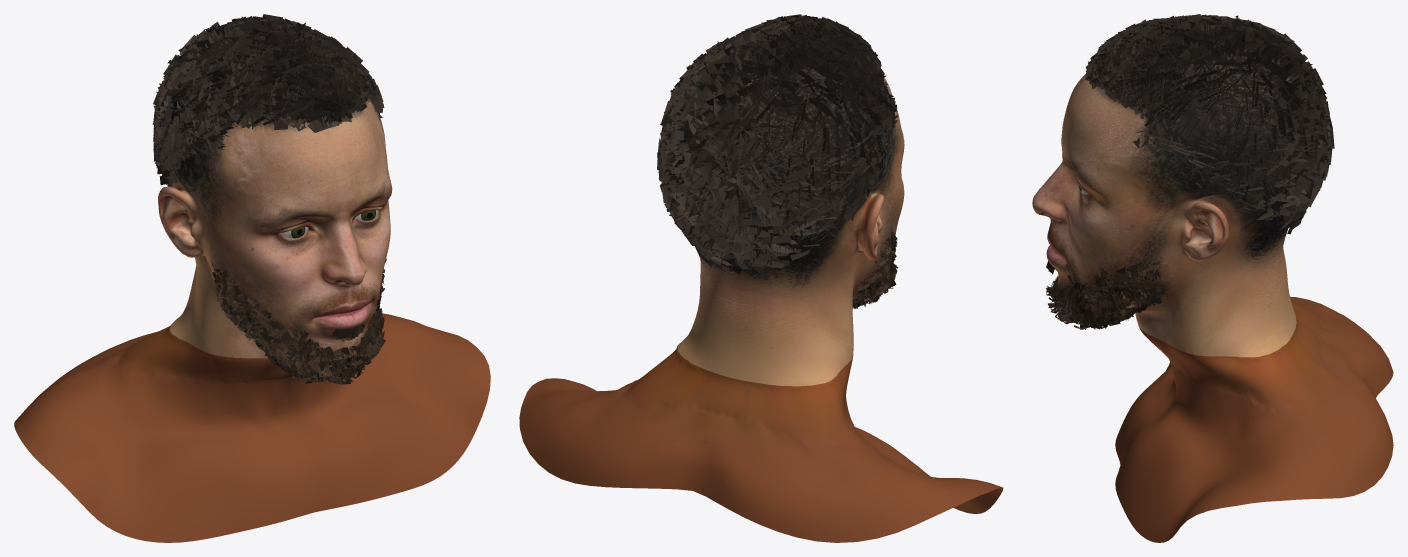
Rendered from curry.glb.
The picture shows the model from 3 angles, left to right: view 1: azimuth 30°, elevation 25°; view 2: azimuth 150°, elevation 25°; view 3: azimuth 270°, elevation 25°; orthographic projection. The views are drawn at different scales.
Visible parts, largest first — view 1: SK_MNJ_HeadNeck_v003.001, SK_MNJ_hair_UV1_v002.001, SK_MNJ_beard_UV1_v002.001; view 2: SK_MNJ_HeadNeck_v003.001, SK_MNJ_hair_UV1_v002.001, SK_MNJ_beard_UV1_v002.001; view 3: SK_MNJ_HeadNeck_v003.001, SK_MNJ_hair_UV1_v002.001, SK_MNJ_beard_UV1_v002.001.
Part boxes in pixels (left/top/right/bottom): SK_MNJ_HeadNeck_v003.001: left=14, top=39, right=490, bottom=542; SK_MNJ_hair_UV1_v002.001: left=152, top=14, right=384, bottom=186; SK_MNJ_beard_UV1_v002.001: left=212, top=259, right=386, bottom=384; SK_MNJ_HeadNeck_v003.001: left=519, top=53, right=1003, bottom=542; SK_MNJ_hair_UV1_v002.001: left=657, top=14, right=898, bottom=276; SK_MNJ_beard_UV1_v002.001: left=852, top=231, right=898, bottom=308; SK_MNJ_HeadNeck_v003.001: left=1032, top=42, right=1393, bottom=542; SK_MNJ_hair_UV1_v002.001: left=1085, top=14, right=1334, bottom=234; SK_MNJ_beard_UV1_v002.001: left=1046, top=254, right=1161, bottom=329.
Bounding box in the file's own units: 0.3925 × 0.3859 × 0.2823.
Materials: 9 (5 with a texture image).
